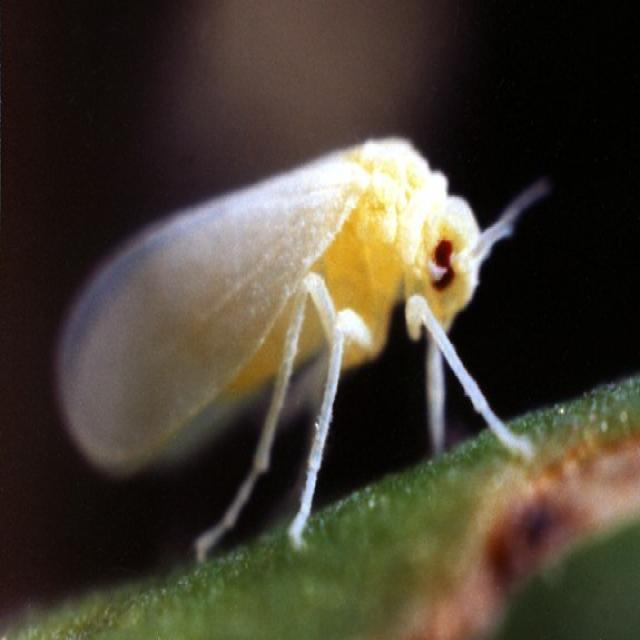Whitefly: (38, 121, 560, 562)
